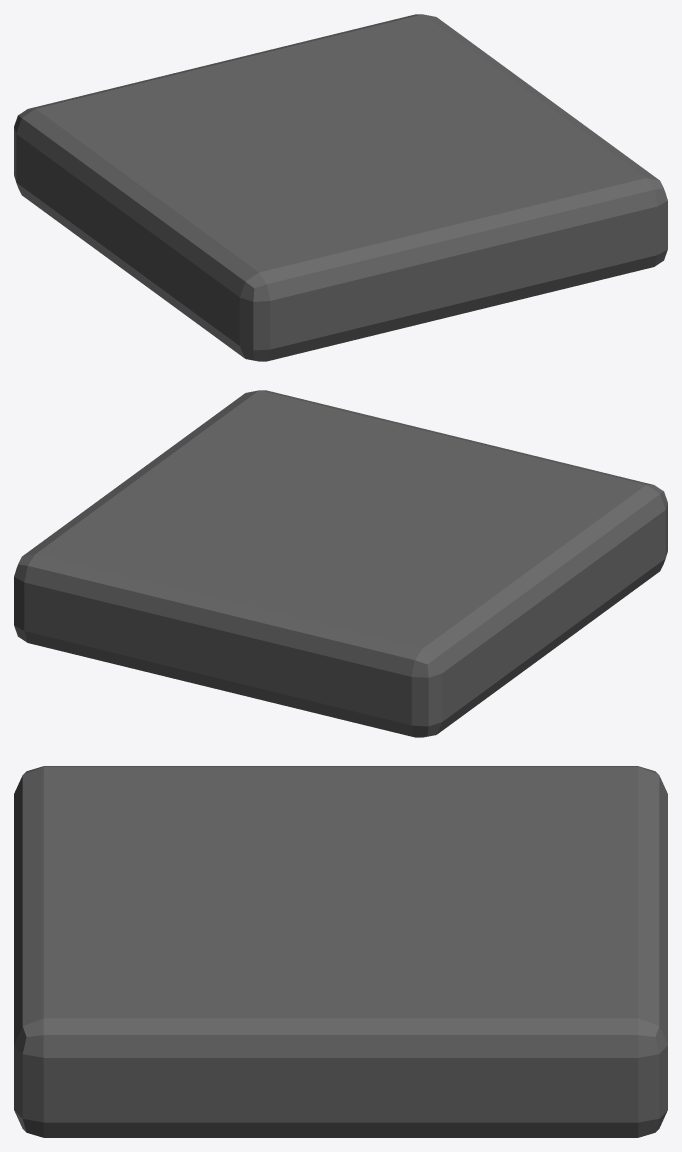
File: SpaceTop1.glb
3 renders of one model, top to bottom at view 1: azimuth 30°, elevation 25°; view 2: azimuth 150°, elevation 25°; view 3: azimuth 270°, elevation 25°, orthographic. The views are drawn at different scales.
Visible parts, largest first — view 1: Top_Big_0_4; view 2: Top_Big_0_4; view 3: Top_Big_0_4.
Part boxes in pixels (<box>): Top_Big_0_4: <box>14,14,667,361</box>; Top_Big_0_4: <box>14,390,667,737</box>; Top_Big_0_4: <box>14,766,667,1137</box>.
Bounding box in the file's own units: 2.2 × 0.44 × 2.2.
Materials: 1 (1 with a texture image).
